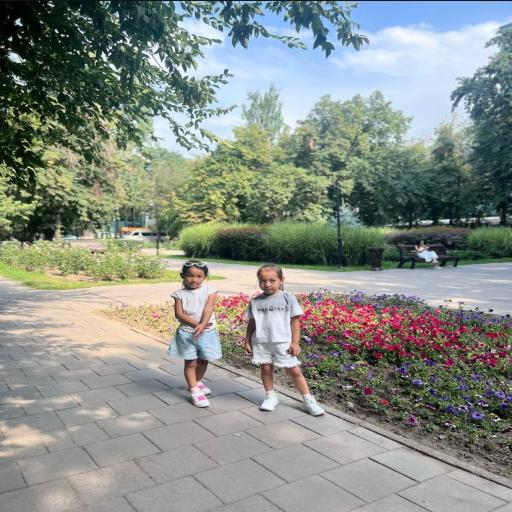bus_stop: (244, 264, 324, 416), (168, 262, 221, 407)
shelf: (0, 280, 511, 511)
trash_bin: (398, 245, 425, 268)
